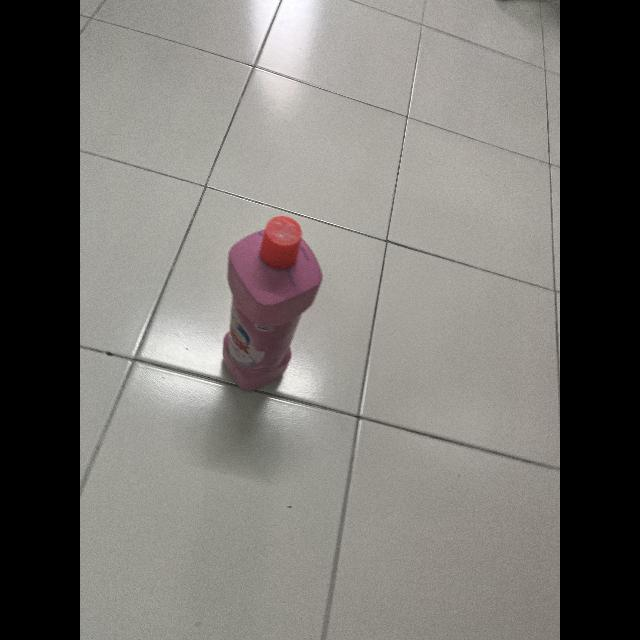chemical_plastic_bottle: (217, 210, 326, 394)
